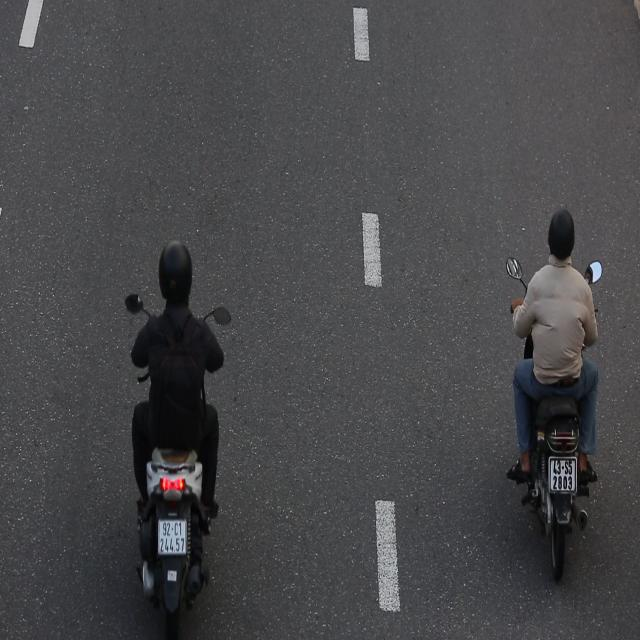motorbike: (493, 190, 610, 610), (115, 236, 234, 637)
